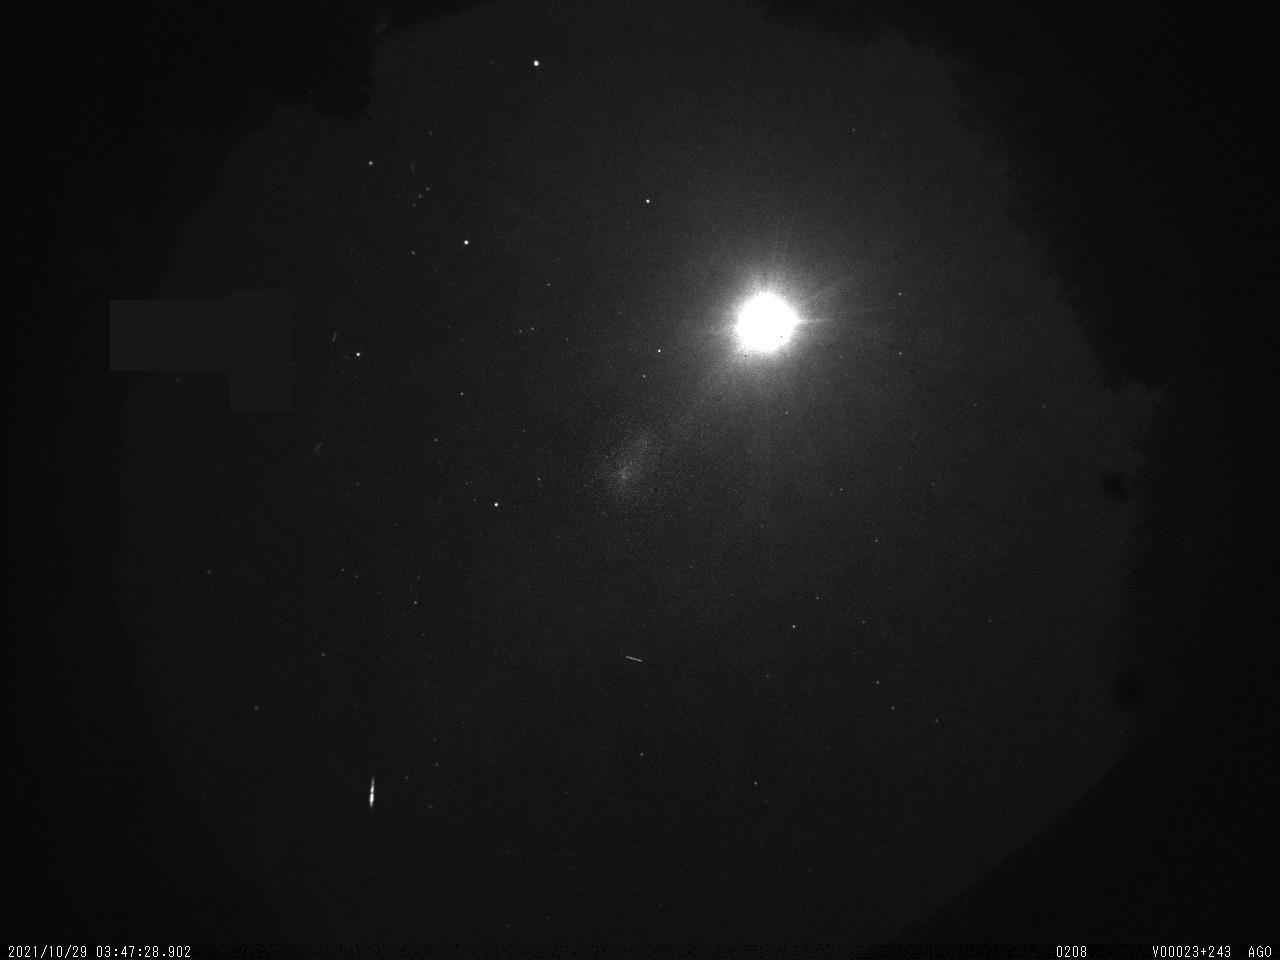meteor: (346, 766, 388, 813)
